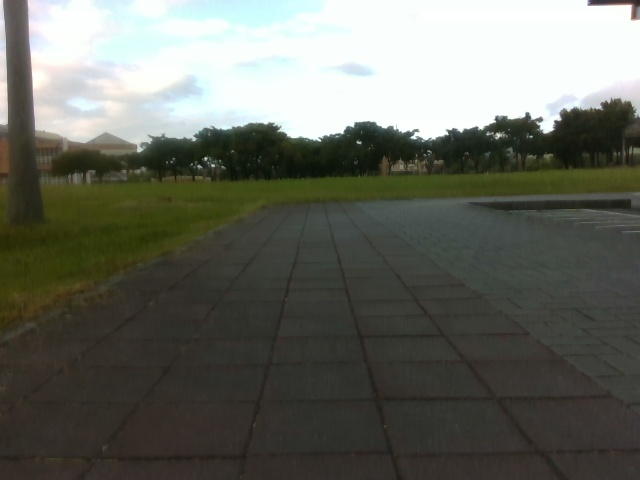grass: (0, 151, 639, 346), (56, 98, 639, 180)
road: (0, 200, 639, 479)
sidewalk: (0, 389, 112, 465), (141, 414, 240, 443)
